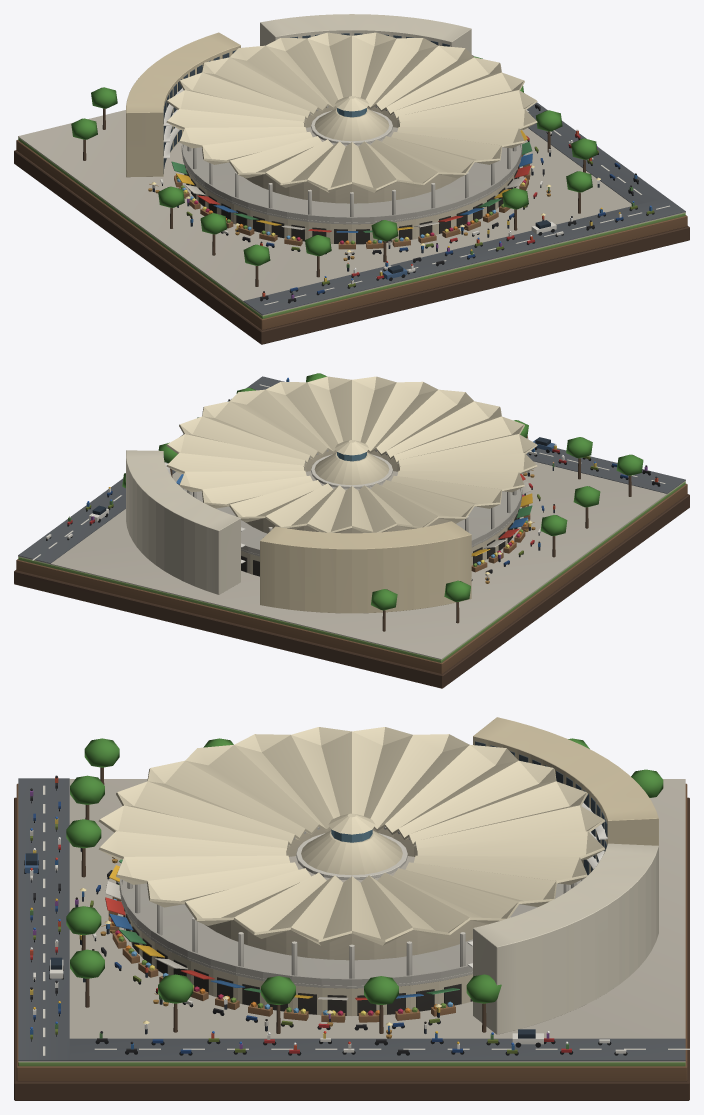
Rendered from cho-dam.glb.
3 renders of one model, top to bottom at view 1: azimuth 30°, elevation 25°; view 2: azimuth 150°, elevation 25°; view 3: azimuth 270°, elevation 25°, orthographic. The views are drawn at different scales.
Visible parts, largest first — view 1: CD_apartment; view 2: CD_apartment; view 3: CD_apartment.
Part boxes in pixels (left/top/right/bottom): CD_apartment: left=14, top=14, right=689, bottom=344; CD_apartment: left=14, top=373, right=689, bottom=688; CD_apartment: left=14, top=717, right=689, bottom=1100.
Size of the model in its own units: 92 by 21.5 by 92.
Materials: 1 (1 with a texture image).
